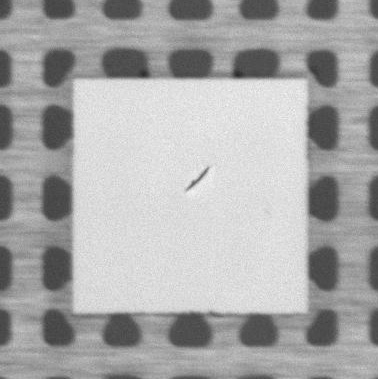DIE_INK: (184, 166, 210, 192)
